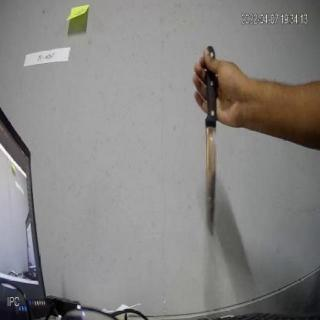knife: (196, 47, 227, 237)
